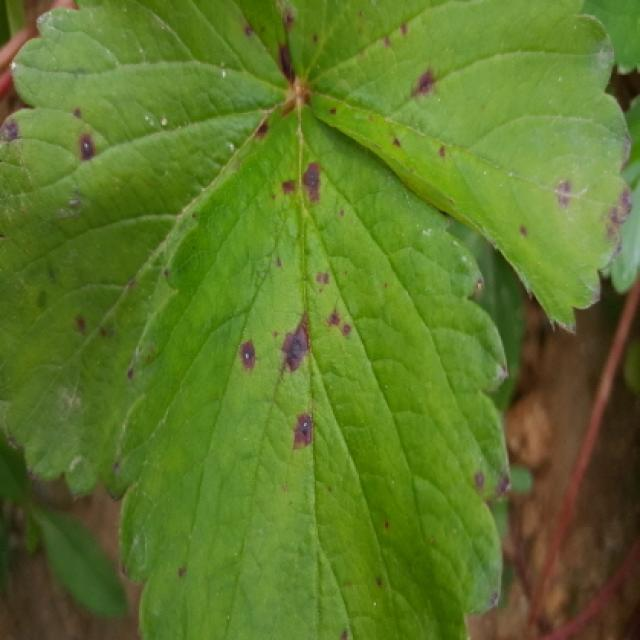Leaf Spot: (112, 99, 514, 638), (2, 0, 295, 504), (281, 0, 638, 337)
